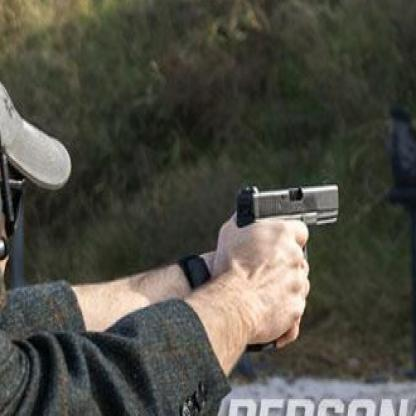gun: (240, 176, 340, 354)
